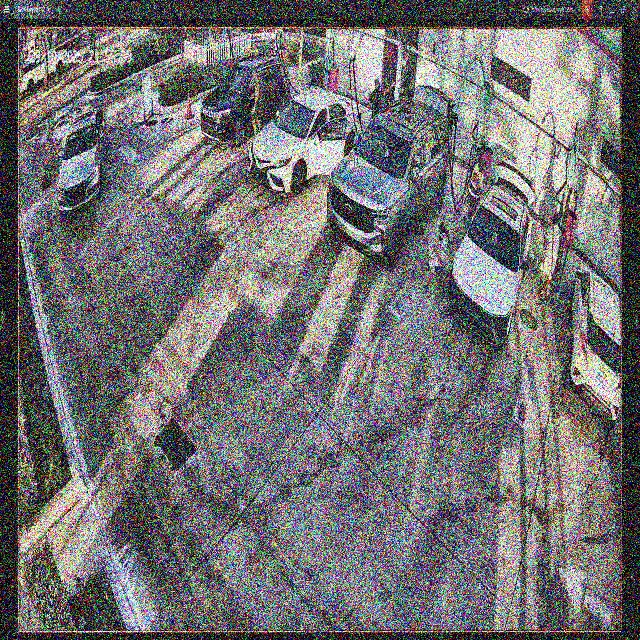Car: (333, 98, 449, 264), (450, 165, 532, 344), (251, 90, 360, 187), (200, 55, 292, 148)
